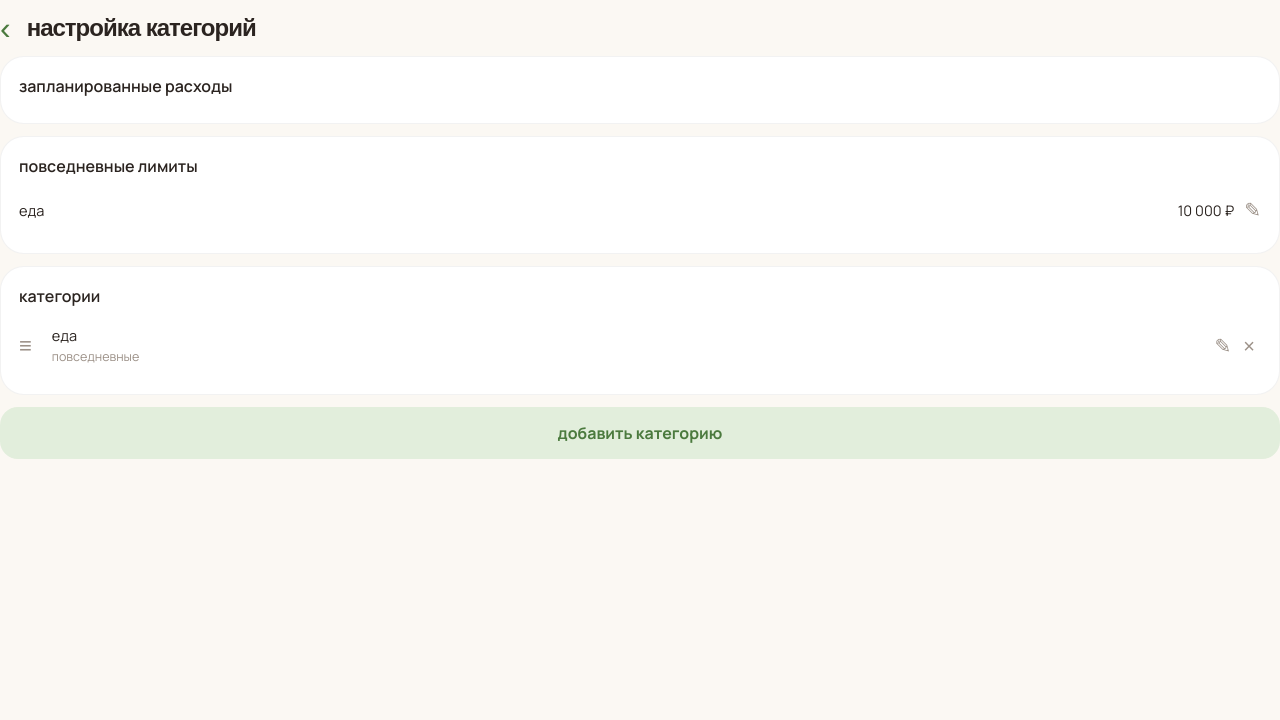
category settings UI › uses the category itself as the edit-dialog title
The image size is (1280, 720).
Click the button named "изменить категорию еда": (1223, 346) left=1208, top=332, right=1237, bottom=360
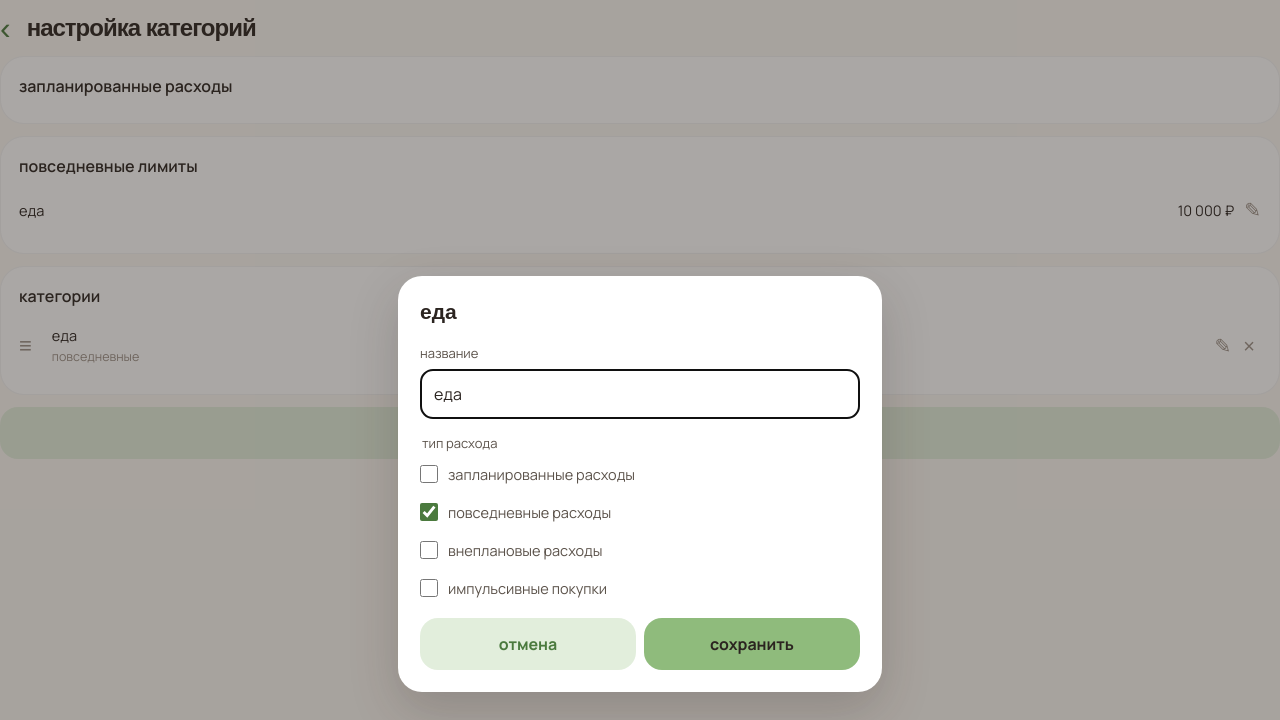
Now the heading "еда" is shown, box left=420, top=298, right=457, bottom=326
